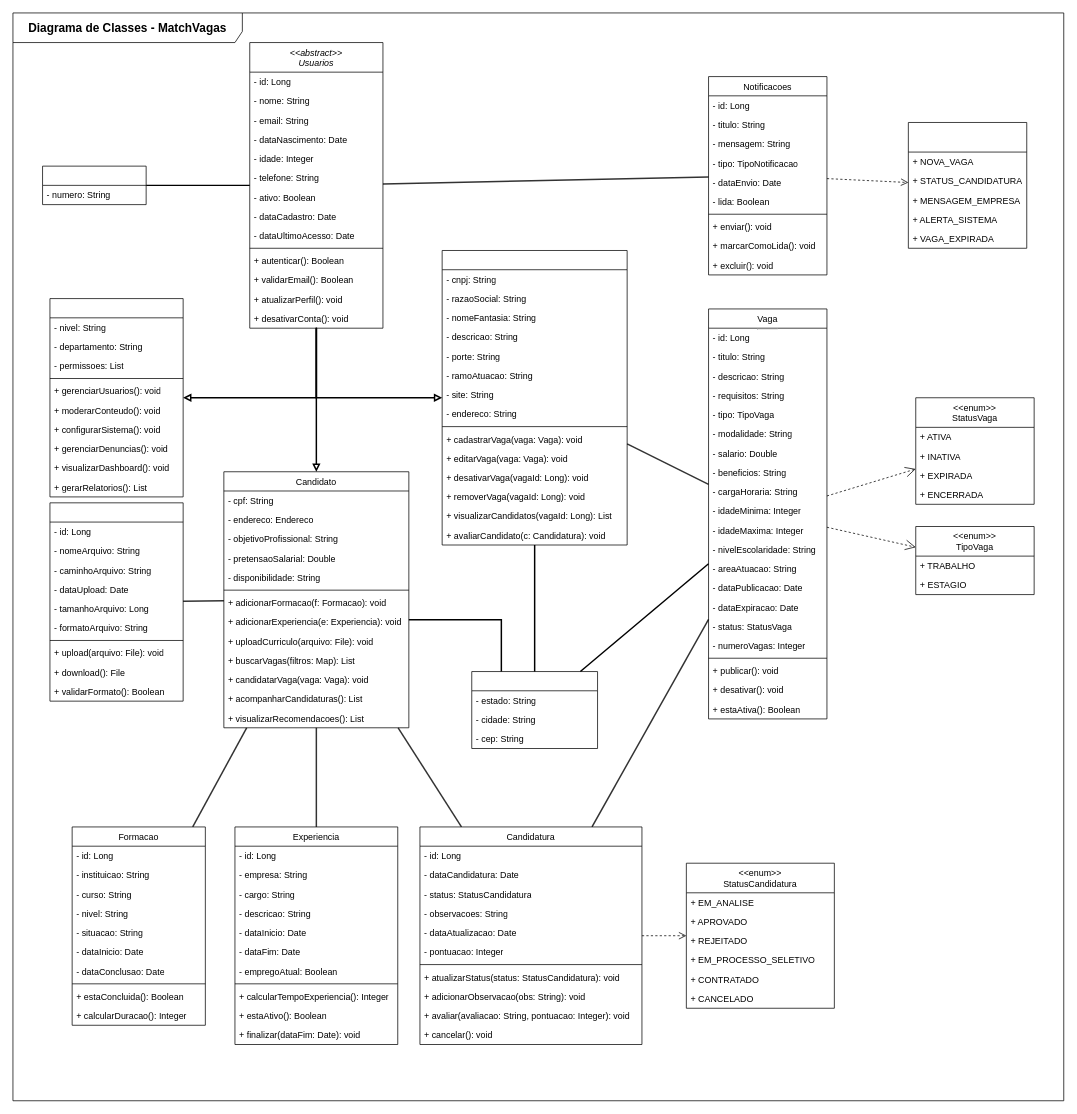
This 1077x1114 diagram has some shape labels left out. Each missing label, with the box of its shape:
<<enum>> TipoNotificacao: (908, 122, 1027, 248)
Administrador: (49, 298, 183, 497)
Curriculo: (49, 502, 183, 701)
Empresa: (441, 250, 627, 545)
Endereco: (471, 671, 598, 749)
Telefones: (42, 165, 146, 205)
